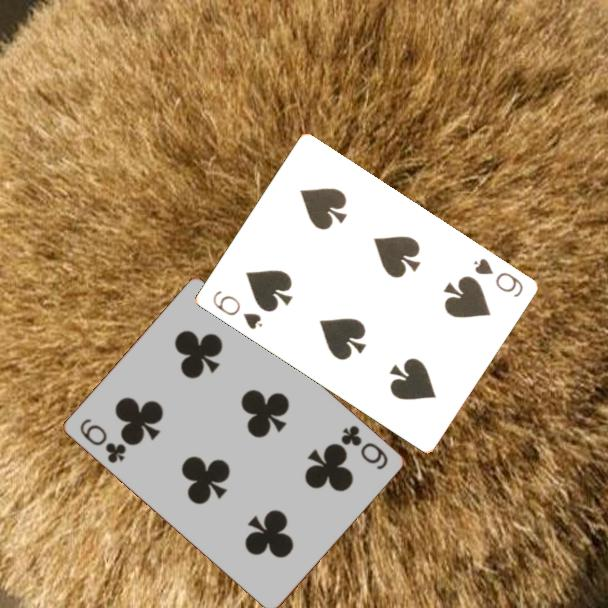c06: (76, 415, 129, 466), (337, 422, 390, 473)
s06: (469, 255, 526, 300), (209, 287, 265, 332)
